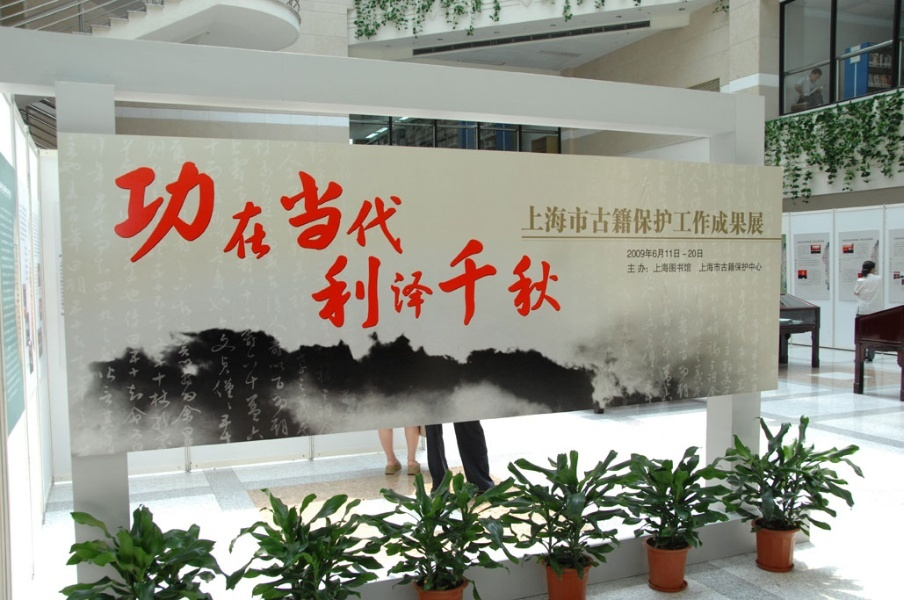text: (129, 137, 145, 456), (65, 134, 80, 458), (97, 137, 112, 456), (177, 140, 192, 448), (209, 138, 224, 446), (257, 140, 272, 440), (273, 140, 288, 440), (289, 140, 304, 438), (321, 142, 336, 435), (146, 138, 160, 449), (337, 144, 352, 434), (225, 138, 239, 446), (161, 138, 174, 449), (641, 159, 657, 403), (689, 162, 705, 398), (657, 160, 672, 403), (673, 161, 688, 401), (81, 134, 92, 458), (705, 163, 720, 398), (308, 142, 320, 435), (722, 164, 736, 397), (86, 137, 96, 456), (193, 140, 203, 448), (246, 140, 256, 442), (119, 137, 128, 456), (257, 140, 266, 442), (305, 140, 314, 438), (625, 158, 636, 389), (280, 140, 288, 438), (737, 165, 747, 393), (169, 140, 176, 448), (113, 137, 119, 456), (353, 144, 359, 434), (321, 232, 336, 340), (337, 232, 352, 340), (353, 232, 368, 340), (369, 232, 384, 340), (385, 232, 400, 340), (401, 232, 416, 340), (417, 232, 432, 340), (433, 232, 448, 340), (449, 232, 464, 340), (465, 232, 480, 340), (481, 232, 496, 340), (497, 232, 512, 340), (513, 232, 528, 340), (529, 232, 544, 340), (545, 232, 560, 340), (617, 158, 624, 389), (753, 164, 760, 391), (203, 138, 208, 446), (113, 163, 128, 265), (129, 163, 144, 265), (145, 163, 160, 265), (161, 163, 176, 265), (177, 163, 192, 265), (193, 163, 208, 265), (209, 163, 224, 265), (225, 163, 240, 265), (241, 163, 256, 265), (257, 163, 272, 265), (273, 163, 288, 265), (289, 163, 304, 265), (305, 163, 320, 265), (321, 163, 336, 265), (337, 163, 352, 265), (353, 163, 368, 265), (369, 163, 384, 265), (385, 163, 400, 265), (251, 140, 256, 440), (60, 134, 64, 458), (332, 144, 336, 434), (310, 232, 320, 340), (749, 164, 752, 391), (337, 142, 339, 435), (107, 163, 112, 265), (401, 163, 406, 265), (529, 205, 544, 237), (545, 205, 560, 237), (561, 205, 576, 237), (577, 205, 592, 237), (593, 205, 608, 237), (609, 205, 624, 237), (625, 205, 640, 237), (641, 205, 656, 237), (657, 205, 672, 237), (673, 205, 688, 237), (689, 205, 704, 237), (705, 205, 720, 237), (721, 205, 736, 237), (737, 205, 752, 237), (689, 161, 691, 401), (753, 205, 767, 237), (289, 140, 290, 440), (639, 159, 640, 403), (561, 232, 563, 340), (641, 262, 656, 275), (657, 262, 672, 275), (673, 262, 688, 275), (522, 205, 528, 237), (641, 249, 656, 260), (657, 249, 672, 260), (673, 249, 688, 260), (705, 262, 720, 273), (721, 262, 736, 273), (737, 262, 752, 273), (628, 262, 640, 275), (689, 249, 703, 260), (627, 249, 640, 260), (753, 262, 762, 273), (801, 239, 816, 244), (849, 238, 864, 243), (699, 262, 704, 273), (865, 238, 875, 243), (817, 239, 825, 244), (689, 262, 692, 275), (842, 238, 848, 243), (798, 239, 800, 244)
